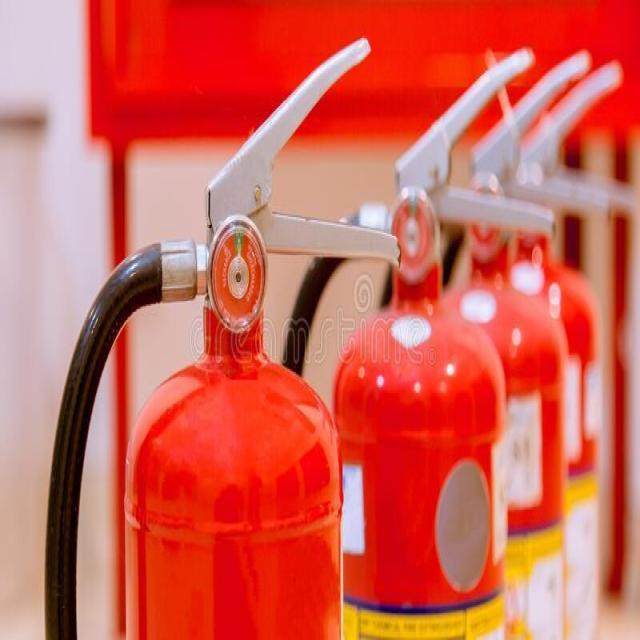fire_extinguisher: (36, 24, 402, 638), (272, 32, 558, 638), (379, 41, 610, 638)
